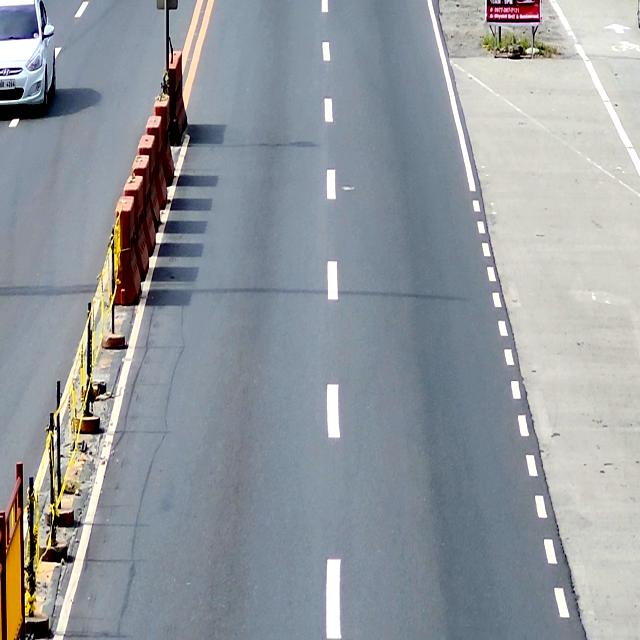Car: (0, 0, 56, 115)
License-Plate: (0, 77, 17, 91)
